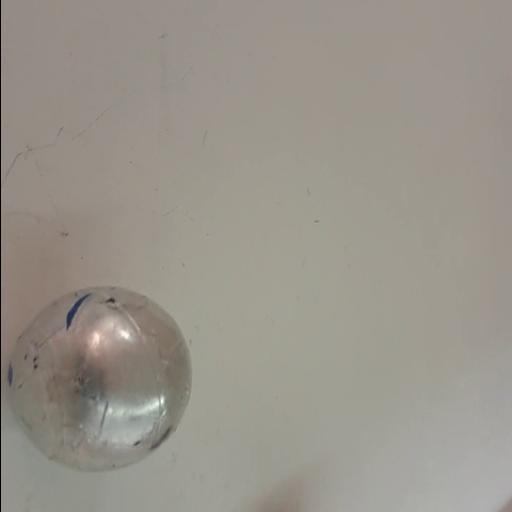alive: (6, 283, 194, 477)
